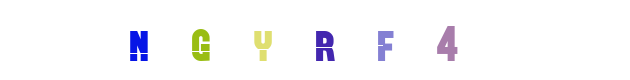4: (371, 0, 451, 80)
F: (276, 0, 356, 80)
G: (160, 0, 240, 80)
N: (98, 0, 178, 80)
R: (260, 0, 340, 80)
Y: (215, 0, 295, 80)
